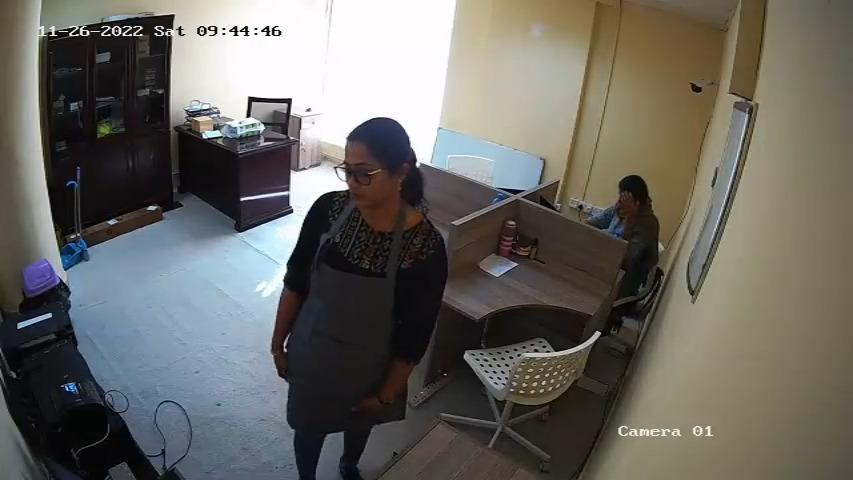apron: (304, 207, 411, 356)
